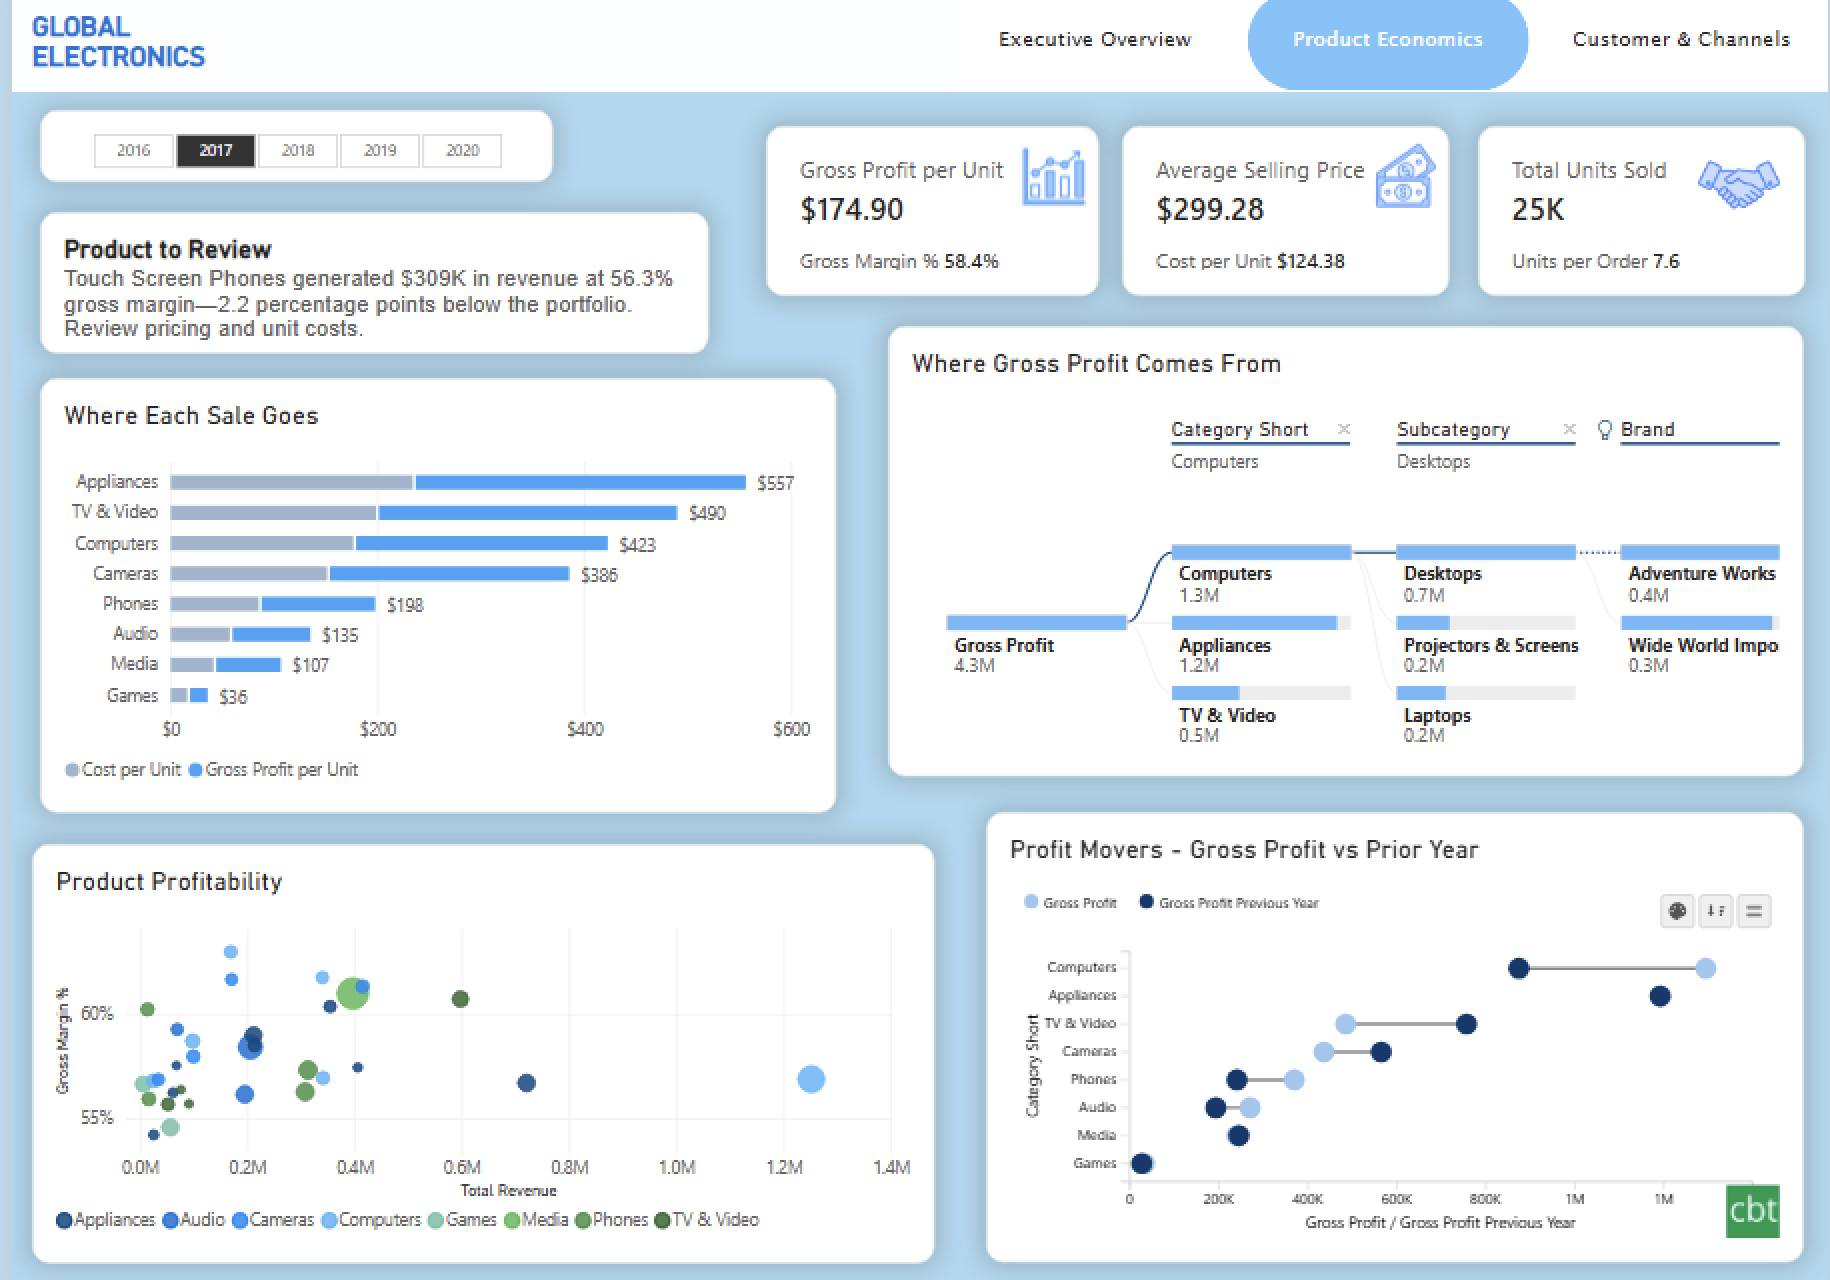

This screenshot's page, from the dashboard's own definition file:
{"tool":"powerbi","page":{"name":"Product Economics","canvas":[1280,920],"ordinal":1},"visuals":[{"type":"slicer","fields":{"Values":["dimDate.Year"]},"box":[19.7,84.5,362,50.7],"z":0},{"type":"cardVisual","fields":{"Data":["factSales.Total Units Sold"]},"box":[1033.8,95.8,231,119.7],"z":1000},{"type":"shape","box":[0,0,1920,72.4],"z":2000},{"type":"pageNavigator","box":[664.8,0,615.5,71.8],"z":3000},{"type":"textbox","box":[14.1,14.1,162,43.7],"z":4000},{"type":"cardVisual","fields":{"Data":["factSales.Average Selling Price"]},"box":[783.1,95.8,231,119.7],"z":5000},{"type":"cardVisual","fields":{"Data":["factSales.Gross Profit per Unit"]},"box":[532.4,95.8,235.2,119.7],"z":6000},{"type":"scatterChart","title":"Product Profitability","fields":{"Category":["dimProducts.Subcategory"],"Series":["dimProducts.Category Short"],"Size":["factSales.Total Units Sold"],"X":["factSales.Total Revenue"],"Y":["factSales.Gross Margin %"]},"box":[14.1,602.8,636.6,295.8],"z":7000},{"type":"barChart","title":"Where Each Sale Goes","fields":{"Category":["dimProducts.Category Short"],"Y":["factSales.Cost per Unit","factSales.Gross Profit per Unit"]},"box":[19.7,273.2,562,307],"z":8000},{"type":"decompositionTreeVisual","title":"Where Gross Profit Comes From","fields":{"Analyze":["factSales.Gross Profit"],"ExplainBy":["dimProducts.Category Short","dimProducts.Subcategory","dimProducts.Brand"]},"box":[618.3,236.6,646.5,318.3],"z":9000},{"type":"DumbbellChart1716000000001","title":"Profit Movers - Gross Profit vs Prior Year","fields":{"category":["dimProducts.Category Short"],"measure1":["factSales.Gross Profit"],"measure2":["factSales.Gross Profit Previous Year"]},"box":[687.3,580.3,577.5,318.3],"z":10000},{"type":"textbox","title":"Product to Review","box":[19.7,156.3,471.8,100],"z":11000},{"type":"image","box":[712.7,107,45.1,49.3],"z":12000},{"type":"image","box":[960.6,104.2,45.1,52.1],"z":13000},{"type":"image","box":[1190.1,104.2,57.7,66.2],"z":14000}]}

Visuals, with their boxes in screenshot pixels (x1, y1, x2, y2), scaled from the page's 1280x920 canvas onto the 1830x1280 screenshot:
slicer - dimDate.Year: bbox=[28, 118, 546, 188]
cardVisual - factSales.Total Units Sold: bbox=[1478, 133, 1808, 300]
shape: bbox=[0, 0, 1829, 101]
pageNavigator: bbox=[950, 0, 1829, 100]
textbox: bbox=[20, 20, 252, 80]
cardVisual - factSales.Average Selling Price: bbox=[1120, 133, 1450, 300]
cardVisual - factSales.Gross Profit per Unit: bbox=[761, 133, 1097, 300]
"Product Profitability" scatterChart: bbox=[20, 839, 930, 1250]
"Where Each Sale Goes" barChart: bbox=[28, 380, 832, 807]
"Where Gross Profit Comes From" decompositionTreeVisual: bbox=[884, 329, 1808, 772]
"Profit Movers - Gross Profit vs Prior Year" DumbbellChart1716000000001: bbox=[983, 807, 1808, 1250]
"Product to Review" textbox: bbox=[28, 217, 703, 357]
image: bbox=[1019, 149, 1083, 217]
image: bbox=[1373, 145, 1438, 217]
image: bbox=[1701, 145, 1784, 237]
